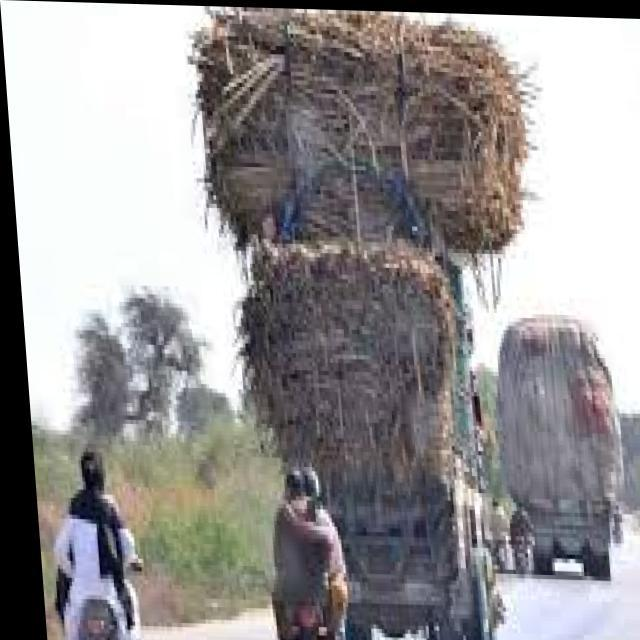covered: (482, 309, 622, 580)
uncovered: (178, 4, 562, 640)
